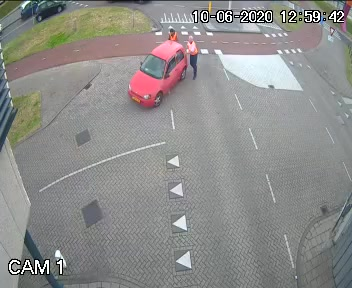car: (115, 41, 196, 110), (34, 1, 60, 23)
